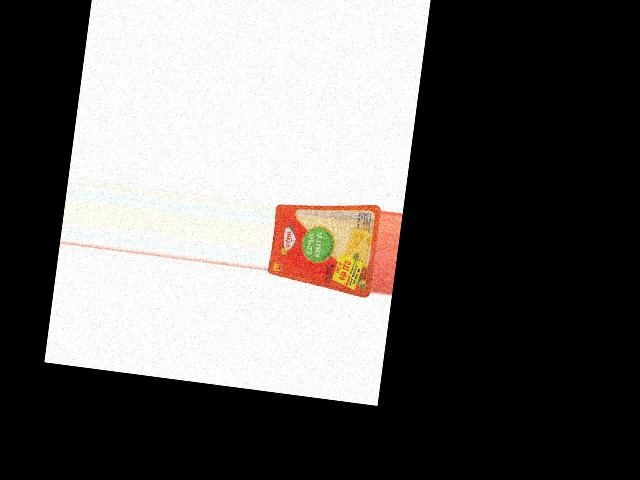cheese: (266, 192, 382, 298)
